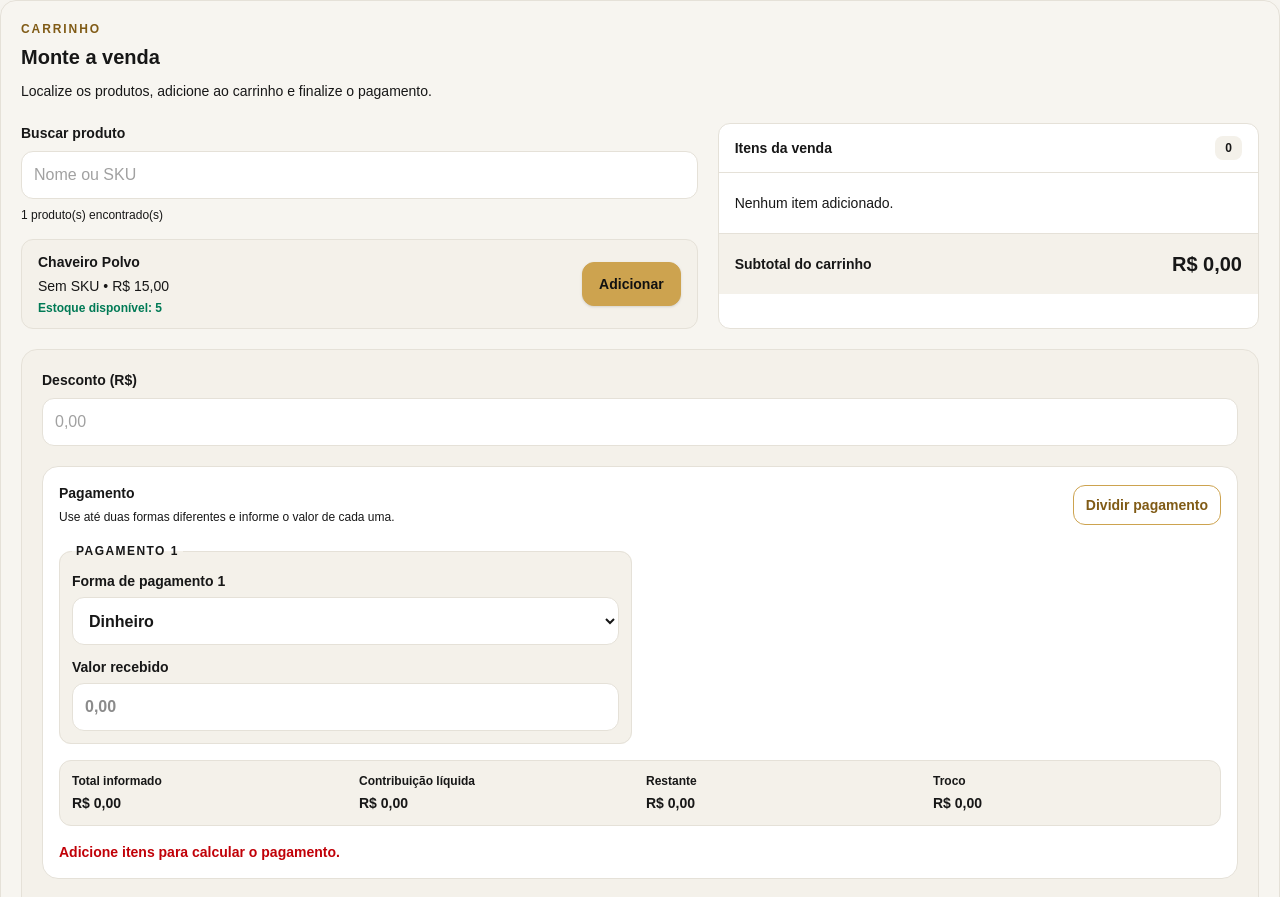
it: PdvCart › fills received amount from cash shortcuts
This screenshot has width=1280, height=897.
Click the button "Adicionar" at (631, 284), box [582,262,681,306]
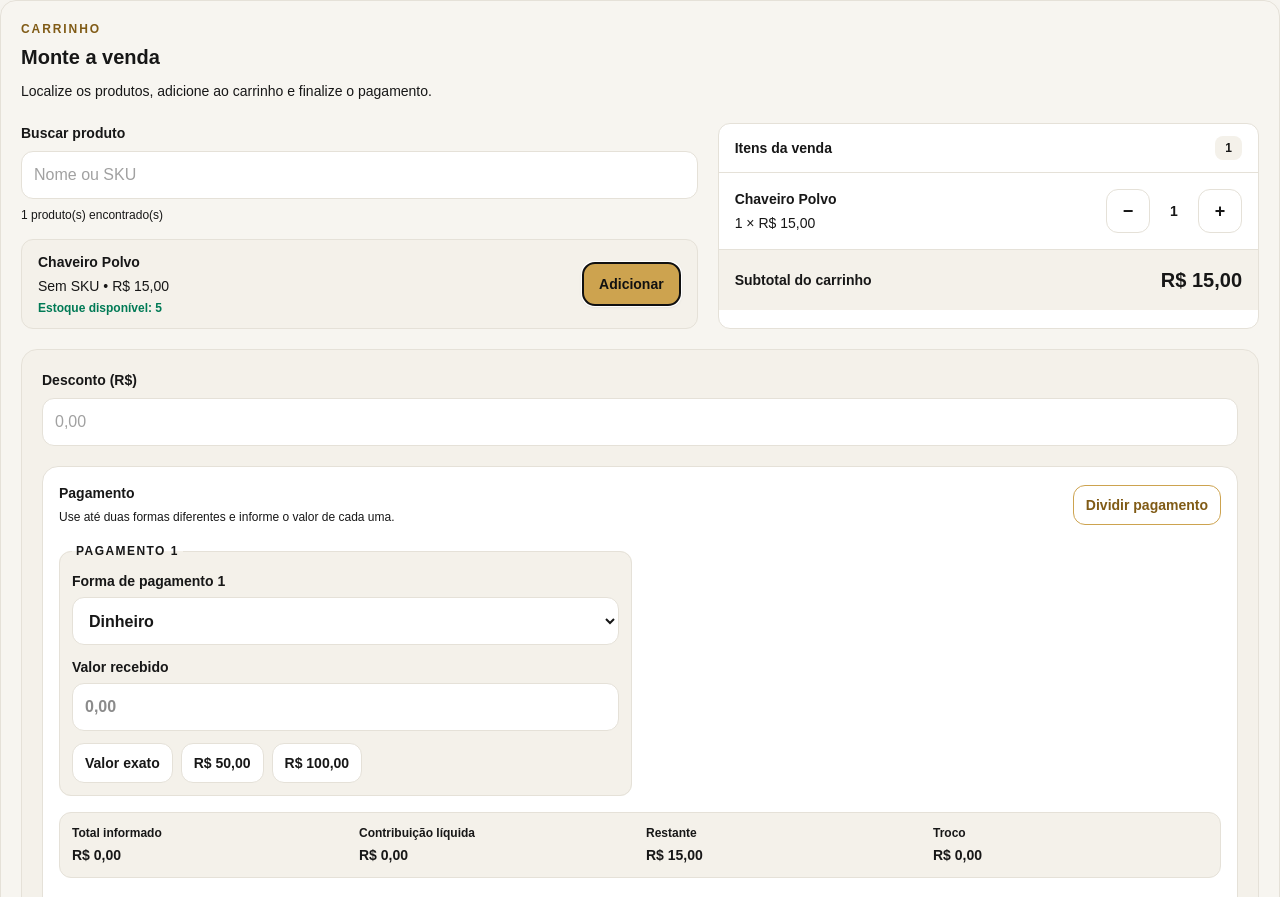
Click the button "Valor exato" at (122, 763), box [72,743,173,783]
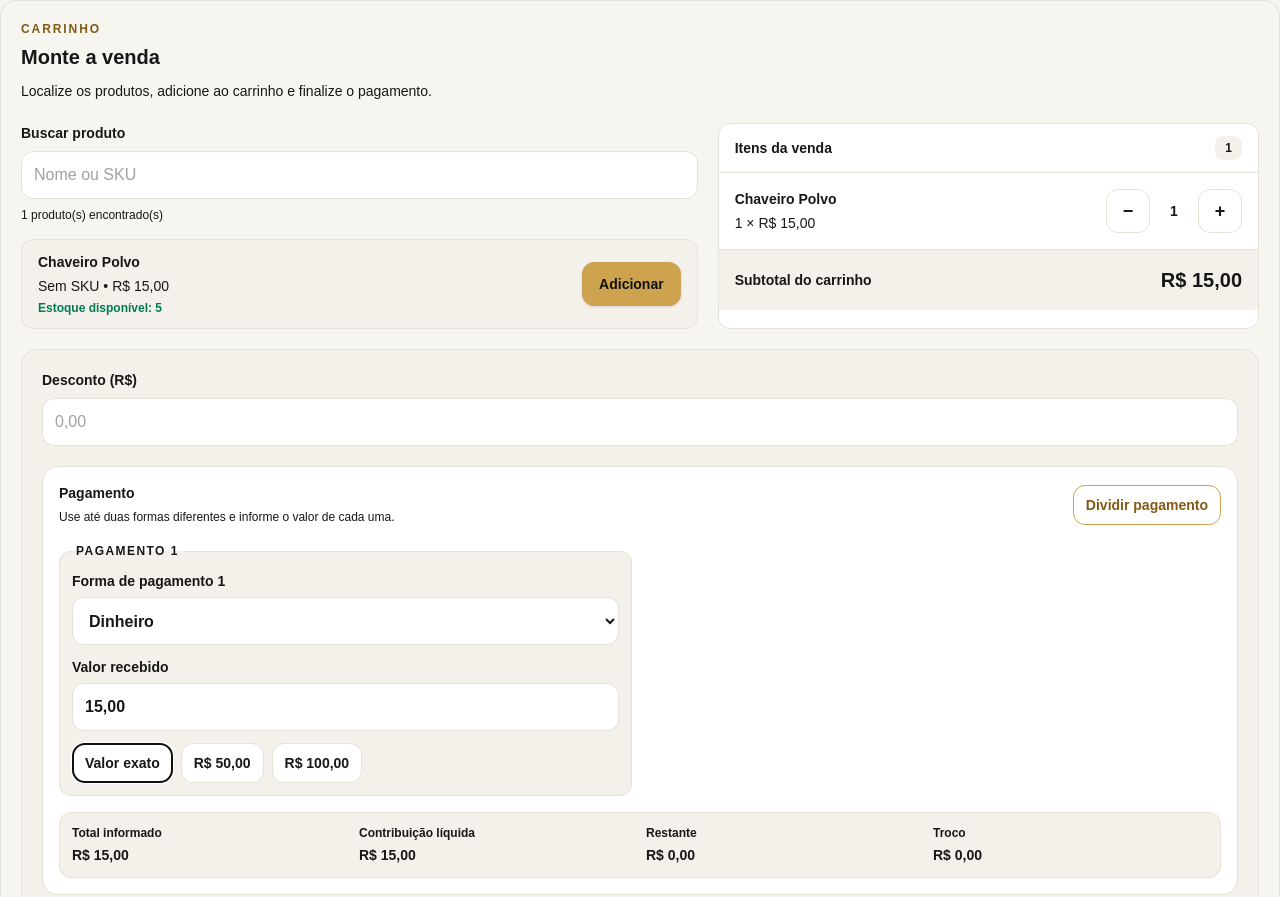
Now the field showing "15,00" is shown, box [72,683,619,731]
Click the button "R$ 50,00" at (222, 763), box [181,743,264,783]
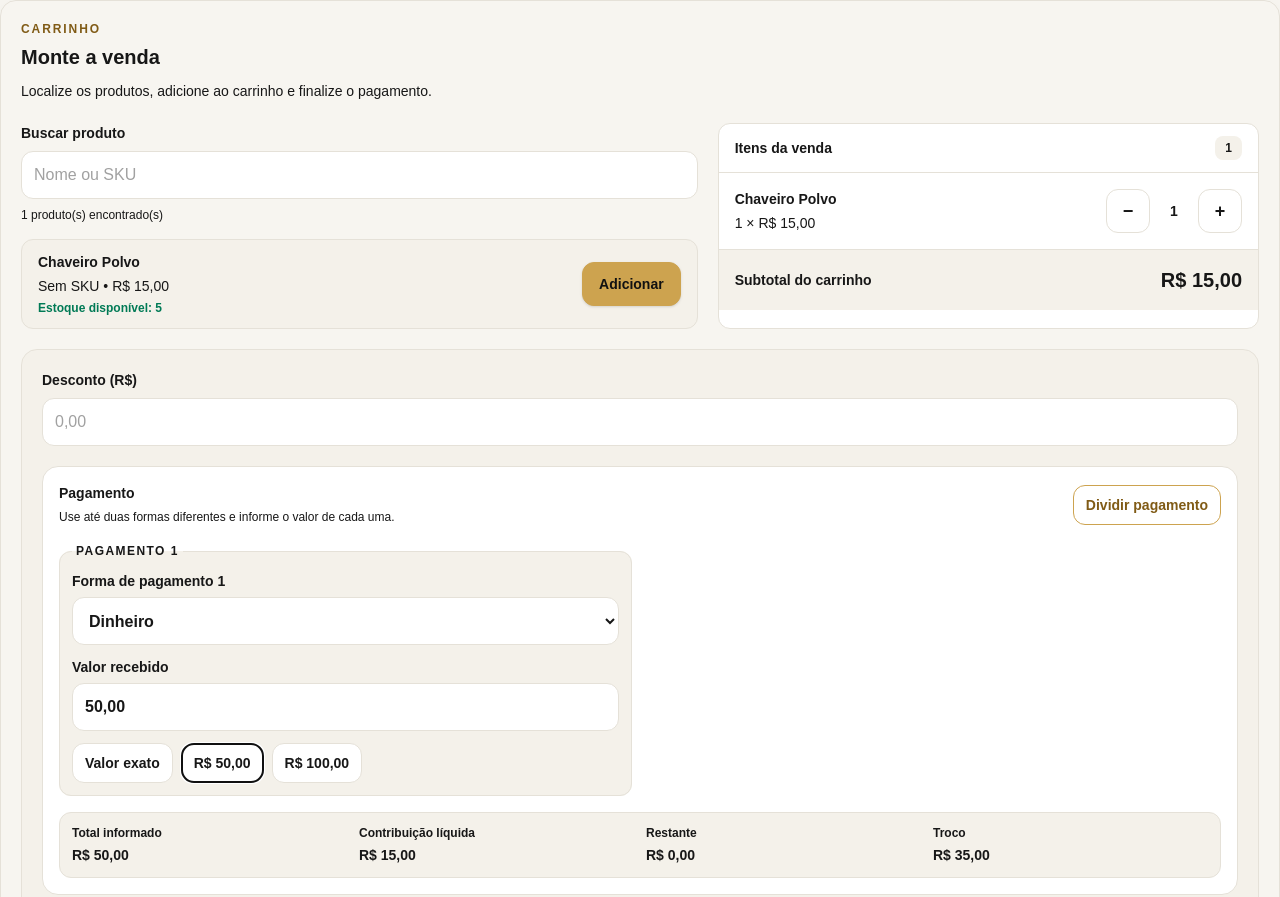
Now the field showing "50,00" is shown, box [72,683,619,731]
